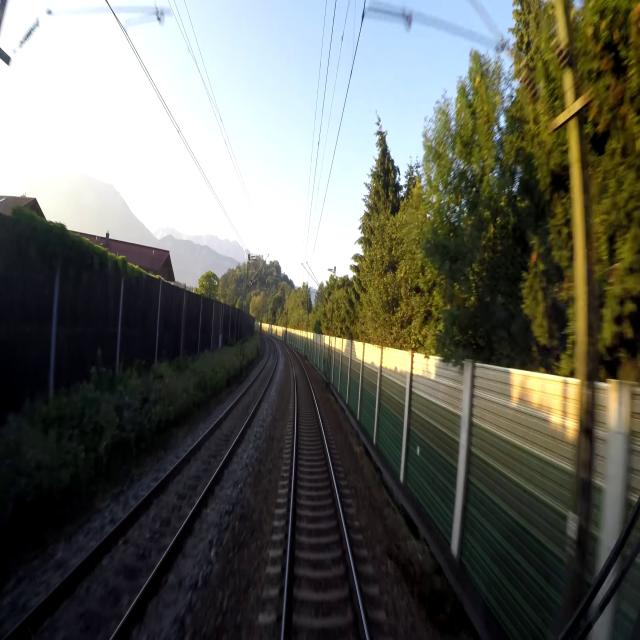rail-track: (7, 341, 275, 639), (285, 350, 365, 639)
